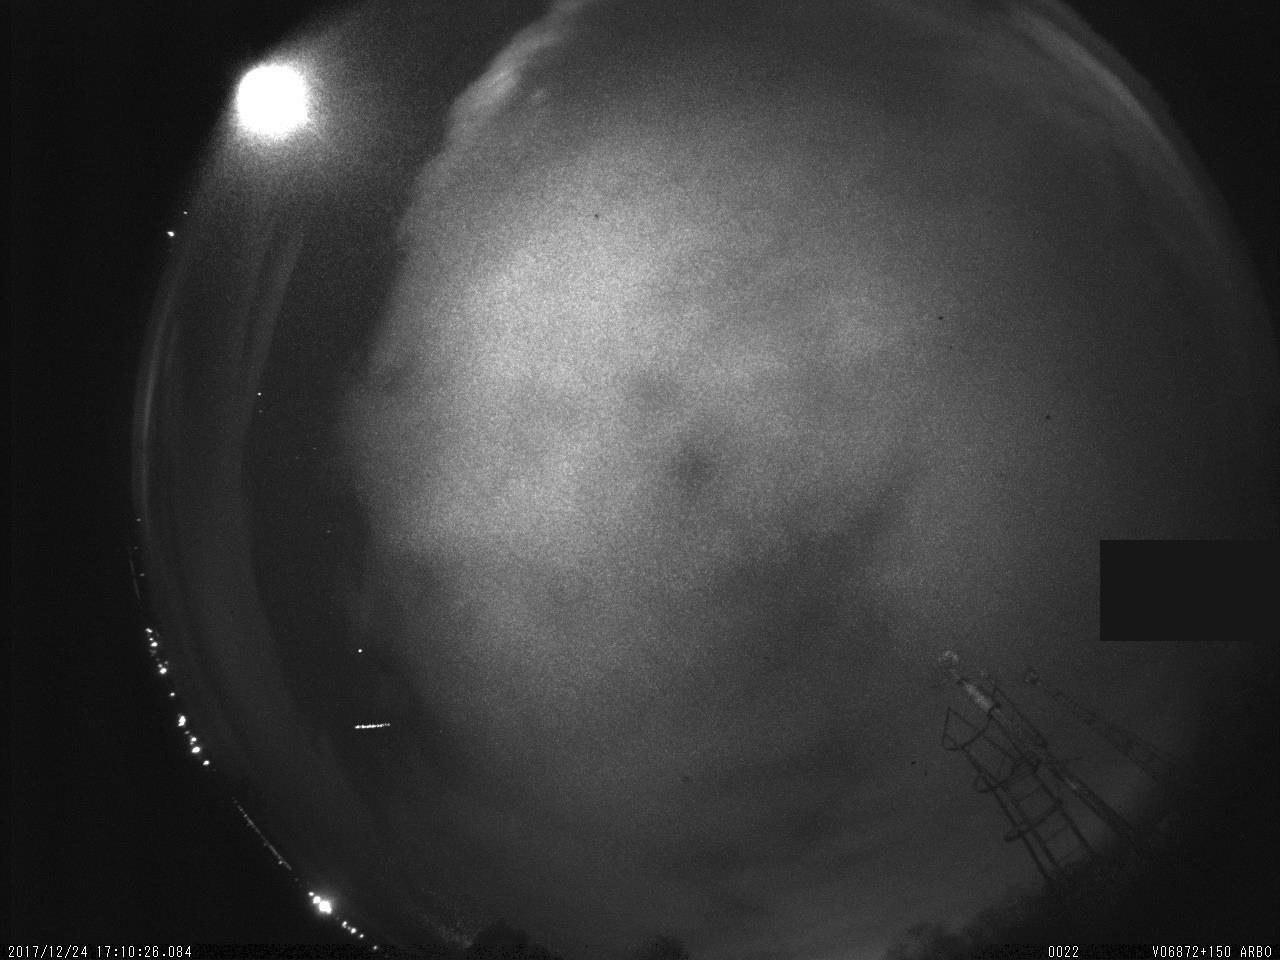meteor: (307, 701, 416, 748)
